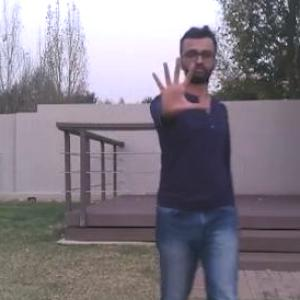follow_hand: (149, 54, 212, 116)
